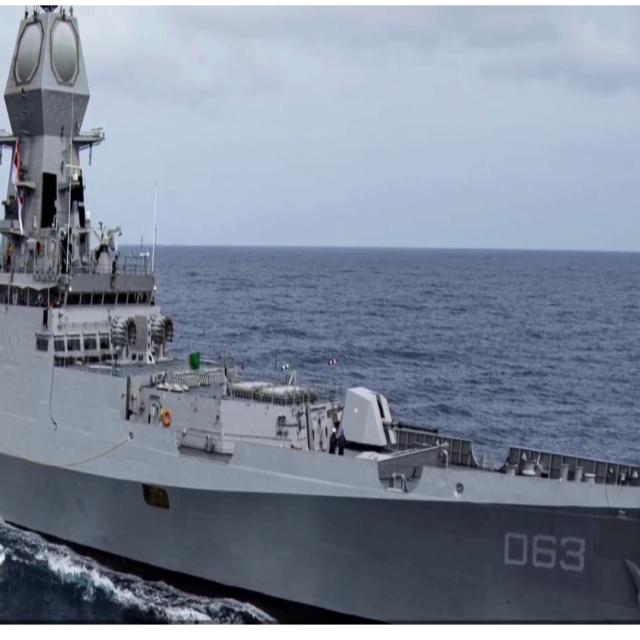OCR: (500, 527, 590, 584)
